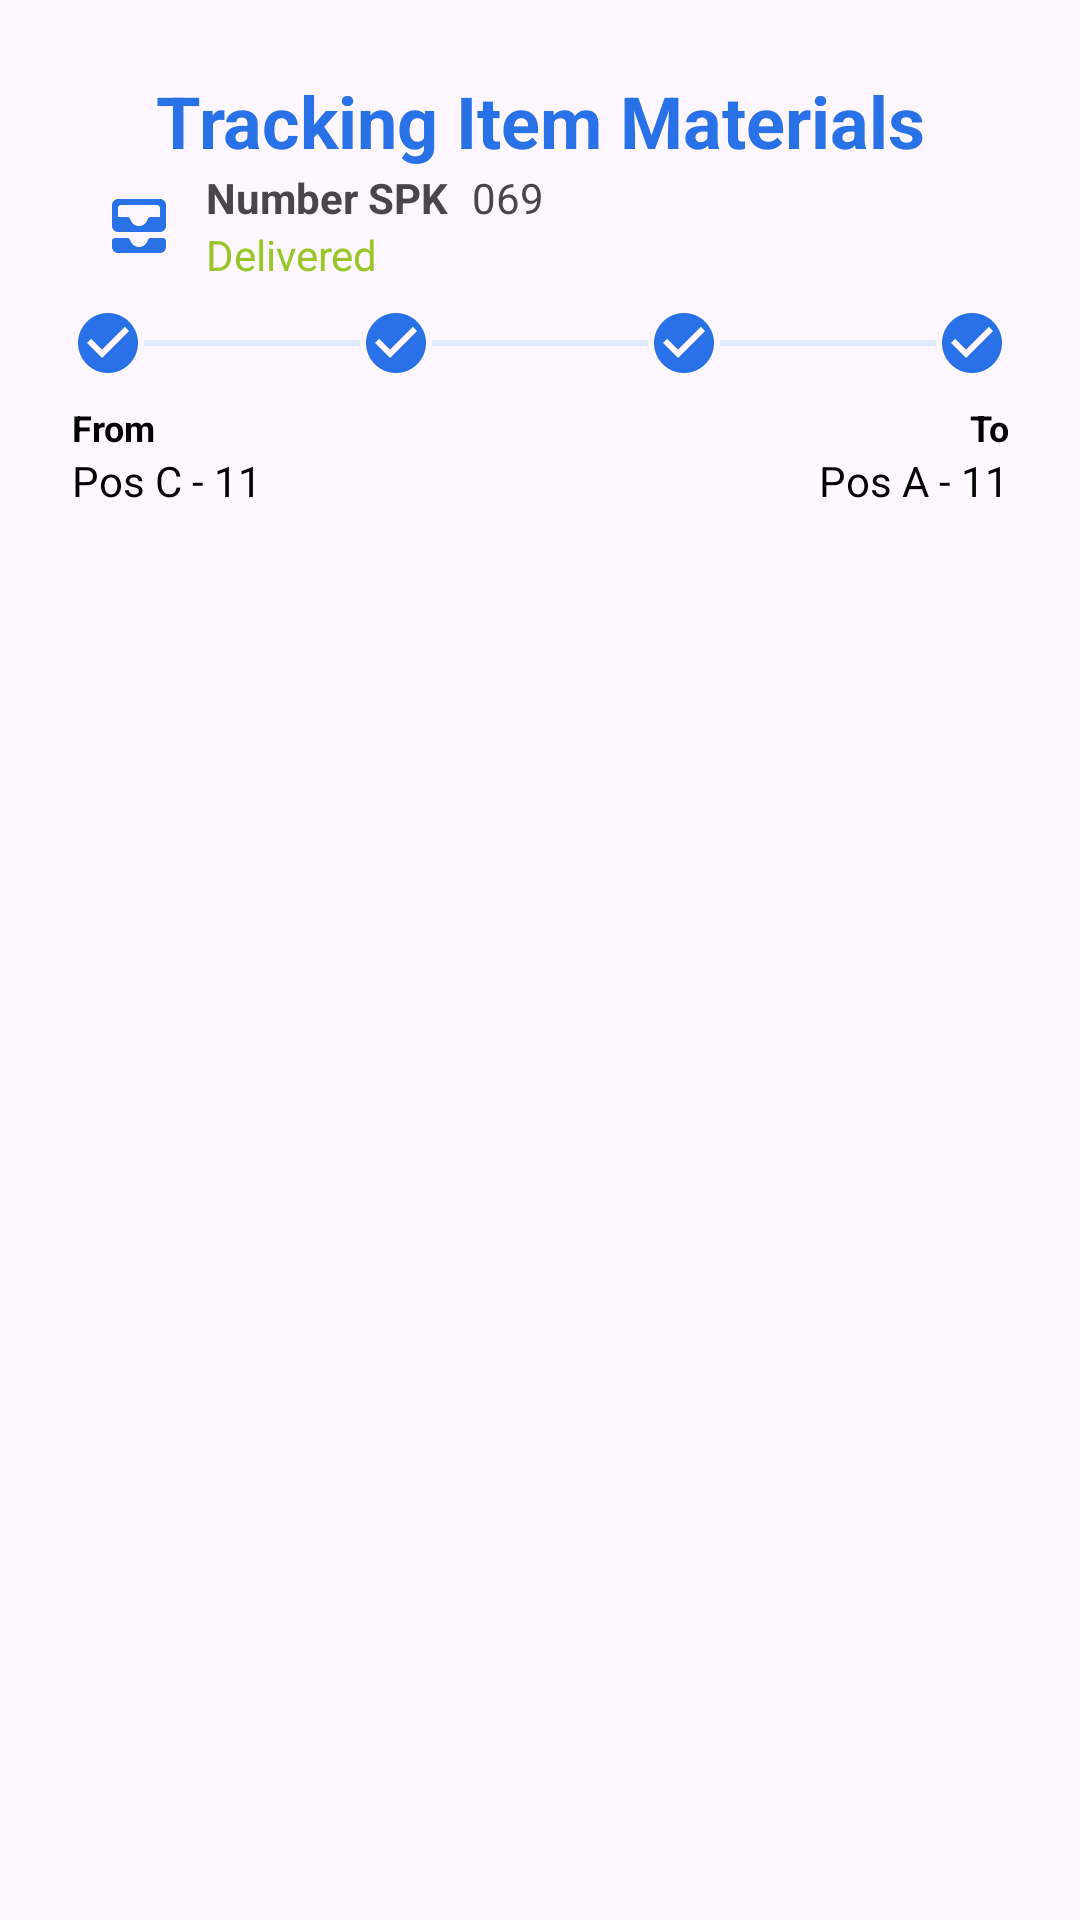

Screen size 1080×1920. Icon name, then its box in pixels as detection(x1, y1, x2, y2):
package: detection(112, 199, 166, 253)
status completed: detection(78, 313, 138, 373), detection(366, 313, 426, 373), detection(654, 313, 714, 373), detection(942, 313, 1002, 373)
